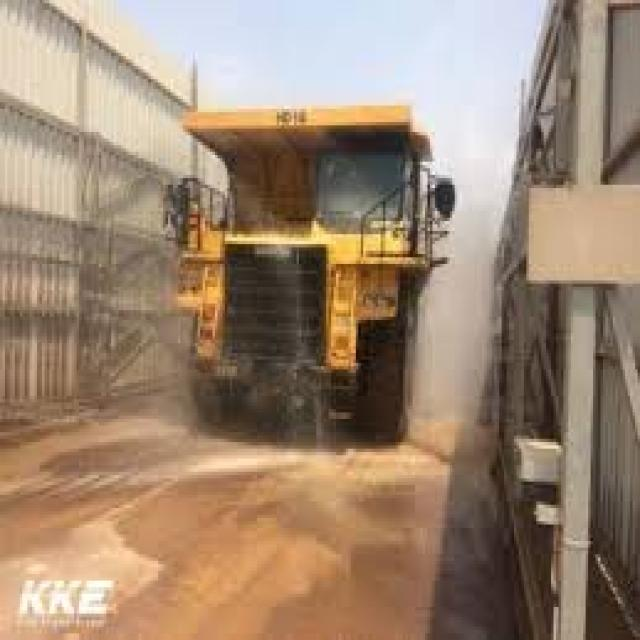dump_truck: (153, 79, 457, 459)
